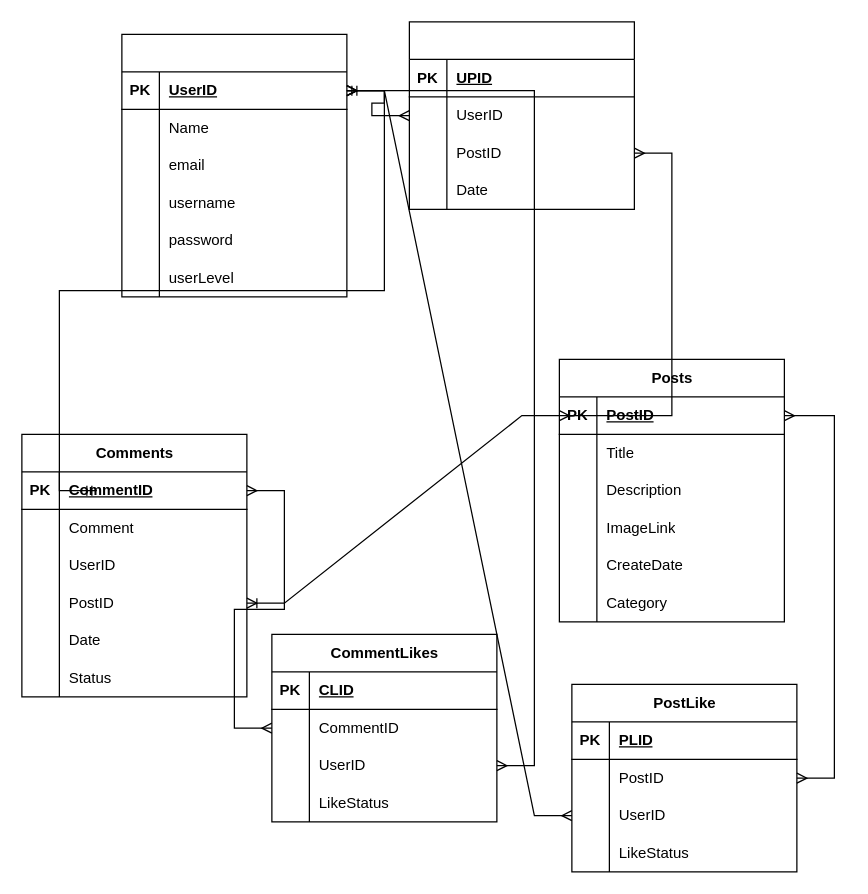
This 868x894 diagram has some shape labels left out. The box of each missing label's shape, as (x1, y1, x2, y2) in pixels:
UserPosts: (408, 21, 634, 209)
Users: (121, 33, 347, 297)
